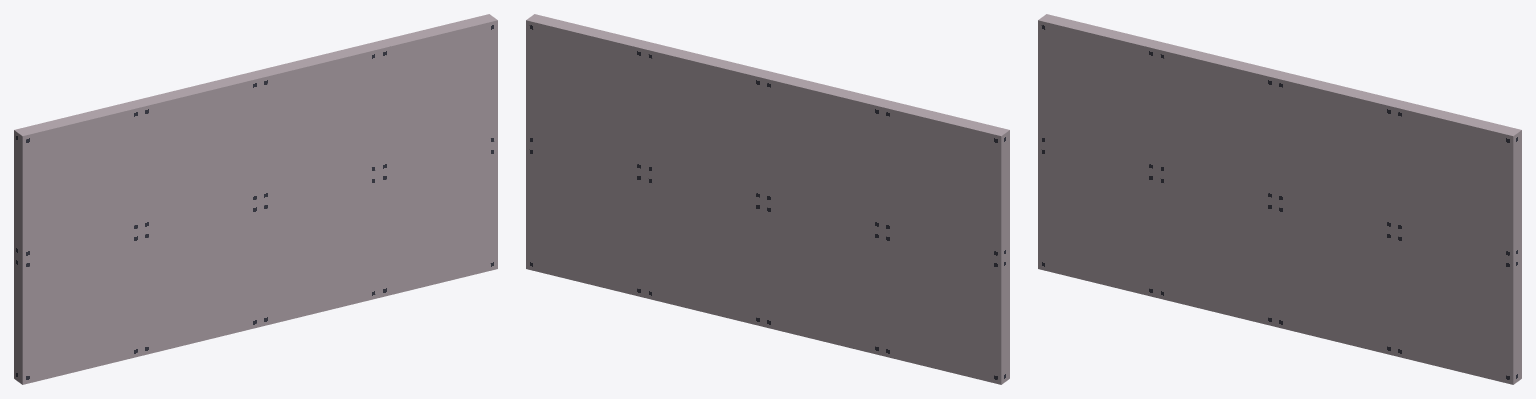
The model's file is wall_textured_d_8_col.gltf.
3 renders of one model, left to right at view 1: azimuth 30°, elevation 25°; view 2: azimuth 150°, elevation 25°; view 3: azimuth 330°, elevation 25°, orthographic.
Parts seen in each view (by area): view 1: wall_textured_d_8_col; view 2: wall_textured_d_8_col; view 3: wall_textured_d_8_col.
Boxes of the visible parts, left/top/right/bottom form: wall_textured_d_8_col: left=14, top=14, right=497, bottom=384; wall_textured_d_8_col: left=526, top=14, right=1009, bottom=384; wall_textured_d_8_col: left=1038, top=14, right=1521, bottom=384.
Bounding box in the file's own units: 8 × 4 × 0.25.
1 material, 1 textured.
